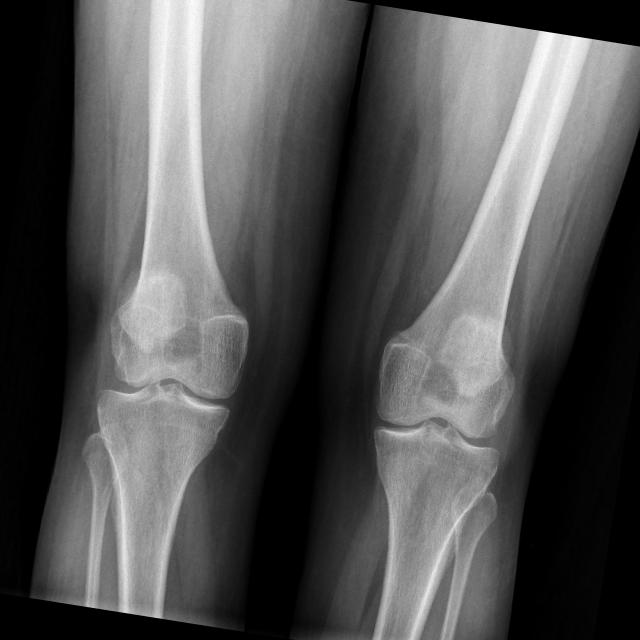Knee: (354, 326, 521, 518), (86, 288, 253, 471)
